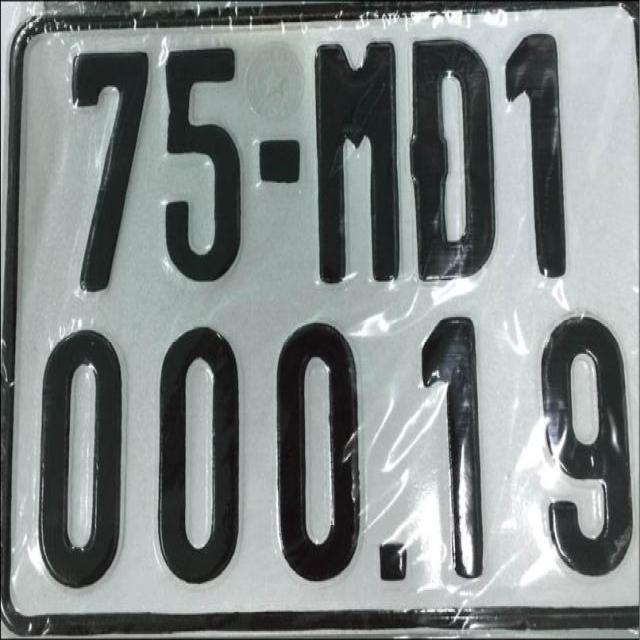0: (267, 310, 365, 590), (32, 320, 130, 596), (150, 315, 248, 590)
1: (498, 25, 587, 282), (420, 312, 491, 585)
5: (156, 34, 250, 289)
7: (63, 38, 151, 296)
9: (530, 302, 639, 587)
D: (408, 31, 502, 285)
U: (312, 38, 401, 282)
